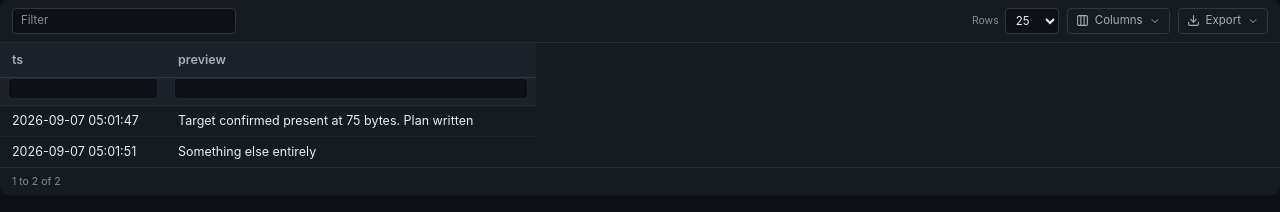
Test: searching a table whose text the server had to cut › still searches the previews while the fetch is in flight, and says so
The image size is (1280, 212).
Type "Target confirmed" into the field named "Filter tbl-messages" at [124, 21], box 12,8 -> 236,34
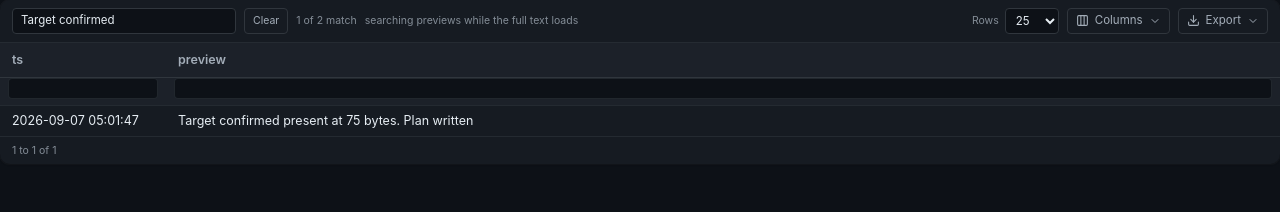
Now the message reads "searching previews while the full text loads", box 365,14 -> 578,27
